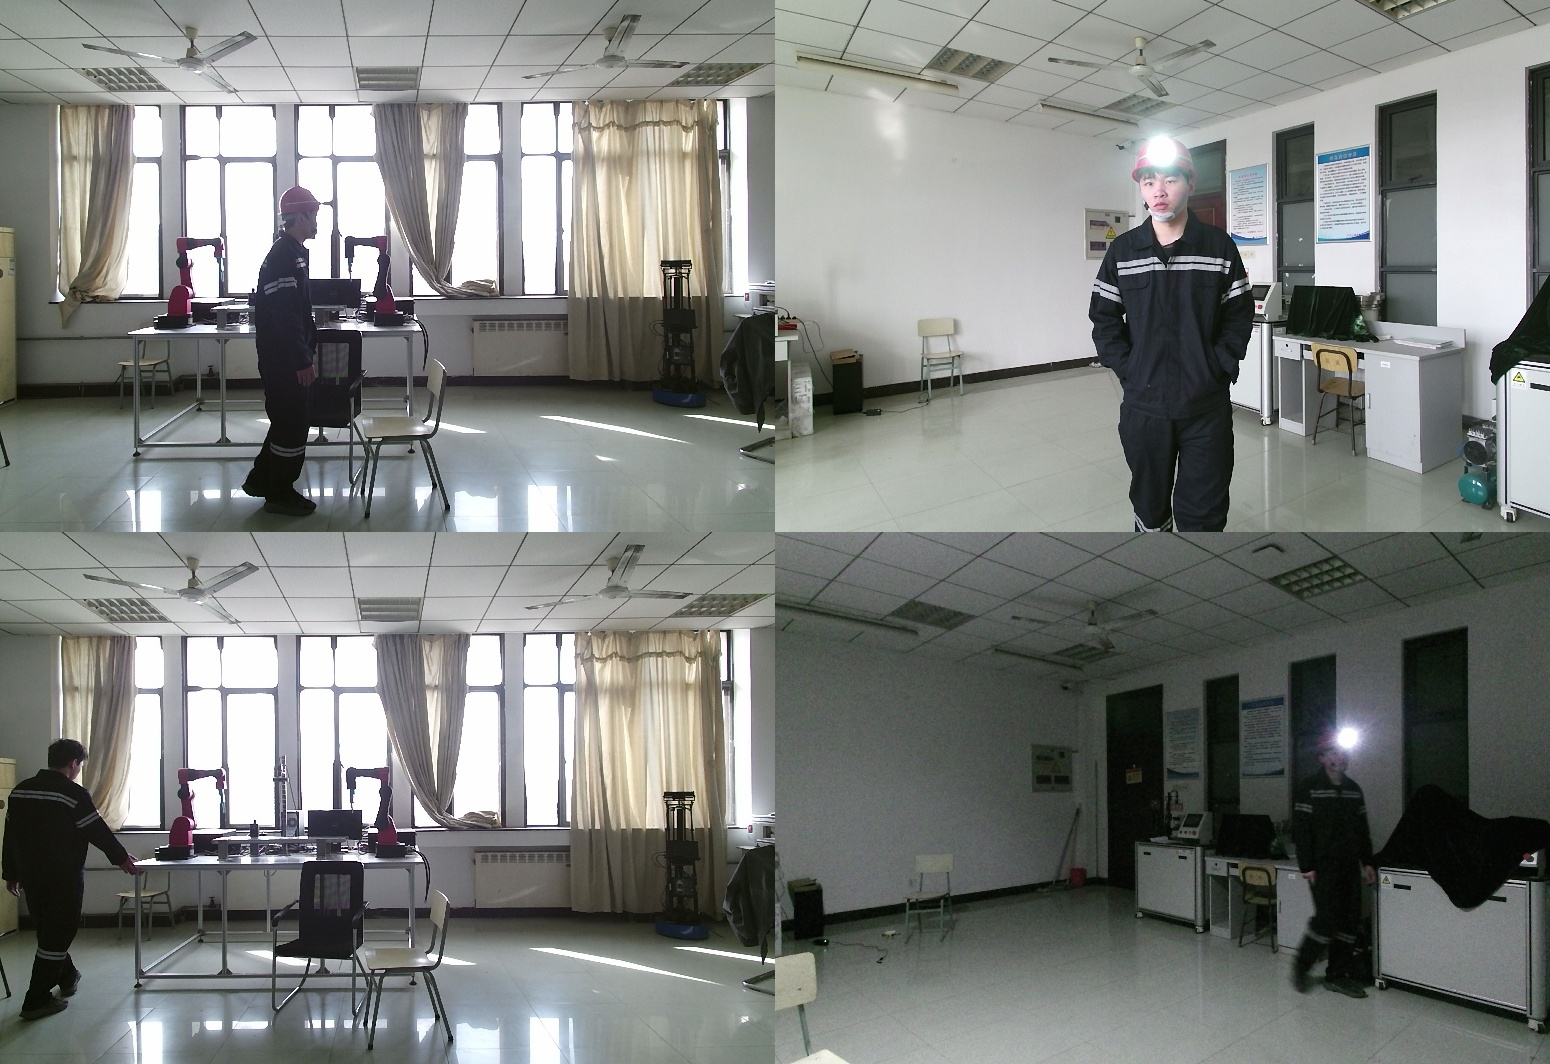person: (1089, 136, 1264, 532), (1, 738, 140, 1015), (248, 188, 338, 513), (1280, 730, 1376, 994)
